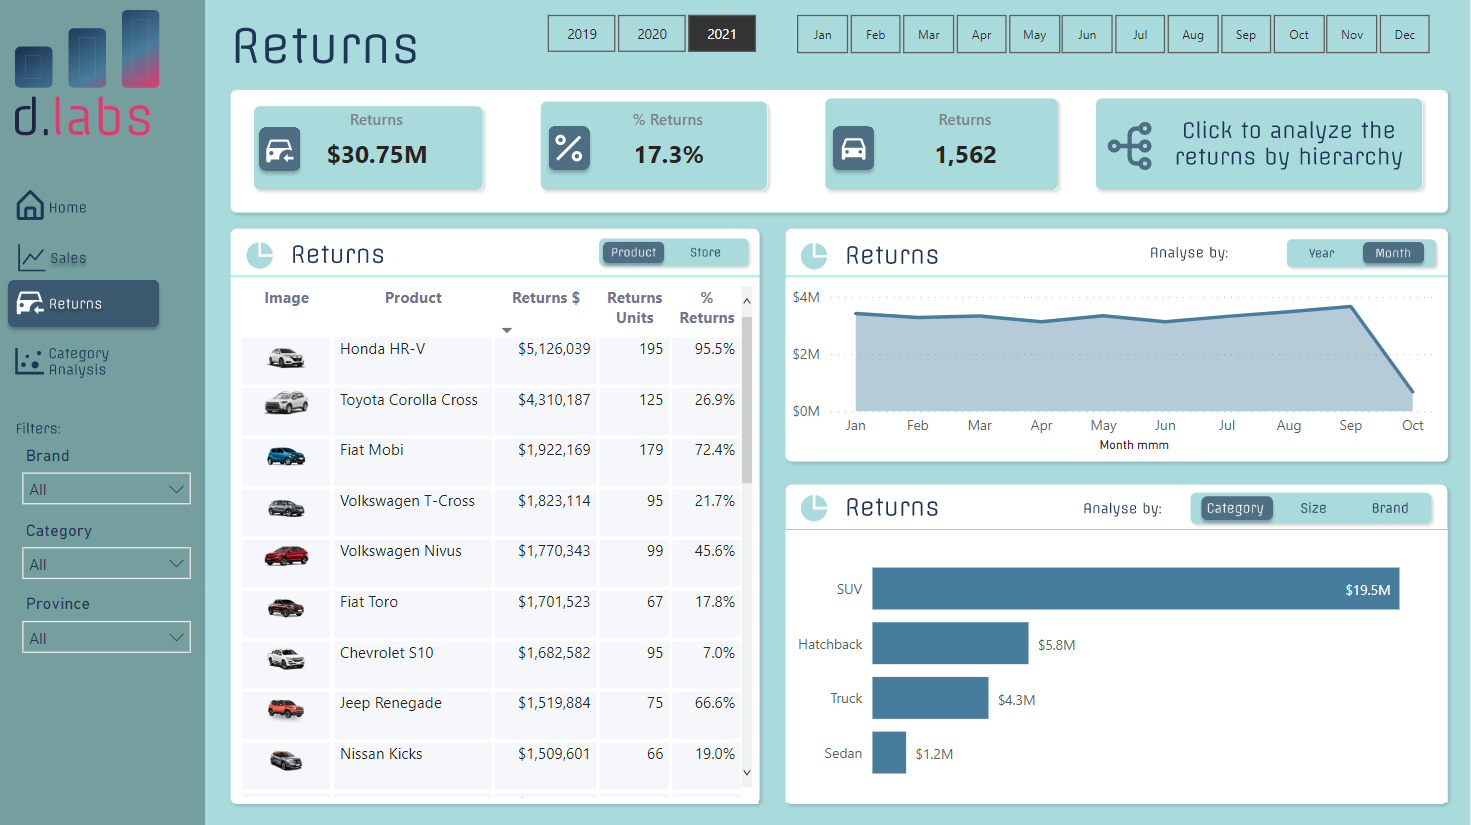

The page's visual inventory and layout, read from the dashboard file:
{"tool":"powerbi","page":{"name":"Returns","canvas":[1280,720],"ordinal":2},"visuals":[{"type":"card","title":"Returns","fields":{"Values":["Measures (2).Returns $"]},"box":[249.5,93.7,156.8,64.2],"z":0},{"type":"card","title":"% Returns","fields":{"Values":["Measures (2).% Returns"]},"box":[503.2,93.7,156.8,64.2],"z":1000},{"type":"card","title":"Returns","fields":{"Values":["Measures (2).Returns Units"]},"box":[761.1,93.7,156.8,64.2],"z":2000},{"type":"slicer","title":"SlicerM","fields":{"Values":["dCalendar.Month mmm"]},"box":[668,6,600,47],"z":3000},{"type":"slicer","title":"SlicerY","fields":{"Values":["dCalendar.Year"]},"box":[451.6,6.3,230.5,46.3],"z":4000},{"type":"actionButton","box":[11.8,158.2,80,40],"z":5000},{"type":"actionButton","box":[11.8,202.7,80,40],"z":6000},{"type":"slicer","fields":{"Values":["dProdutos.Brand"]},"box":[10.4,382,167,62],"z":7000},{"type":"slicer","fields":{"Values":["dProdutos.Category"]},"box":[10.4,447,167,61],"z":8000},{"type":"slicer","fields":{"Values":["dClientes.Province"]},"box":[10.4,511,167,61],"z":9000},{"type":"actionButton","title":"Open Tree","box":[958,86,277,80],"z":10000},{"type":"tableEx","title":"Ret Product Table","fields":{"Values":["dProdutos.ImagemProduto","dProdutos.NomeProduto","Measures (2).Returns $","Measures (2).Returns Units","Measures (2).%Returns"]},"box":[206,243,454,455],"z":11000},{"type":"image","title":"Ret Prod","box":[515.5,195.5,144.5,50],"z":14000},{"type":"actionButton","title":"Bt Product","box":[522.7,207.3,54,22.7],"z":15000},{"type":"actionButton","title":"Bt Store","box":[586,207.3,54,22.7],"z":16000},{"type":"areaChart","title":"Ret by Month","fields":{"Category":["dCalendar.Month mmm"],"Y":["Measures (2).Returns $"]},"box":[683.6,242.7,571.8,155.5],"z":18000},{"type":"image","title":"Ret M","box":[1113.6,196.4,145.5,50],"z":20000},{"type":"actionButton","title":"Bt Year","box":[1123.3,207.3,54,22.7],"z":21000},{"type":"actionButton","title":"Bt Motnh","box":[1186.7,210,54,22.7],"z":22000},{"type":"clusteredBarChart","title":"Ret by Cat","fields":{"Category":["dProdutos.NomeCategoria"],"Y":["Measures (2).Returns $"]},"box":[684,461,575,237],"z":25000},{"type":"image","title":"Cat Retur","box":[1030,420.9,225,44.5],"z":28000},{"type":"actionButton","title":"Bt Cat","box":[1042.5,430,70.8,22.5],"z":29000},{"type":"actionButton","title":"Bt Size","box":[1113.3,430,64.2,22.5],"z":30000},{"type":"actionButton","title":"Bt Brand","box":[1183,429,63,23],"z":31000},{"type":"actionButton","box":[8,294,133,34],"z":34000}]}

Visuals, with their boxes on the page's 1280x720 design canvas (x1, y1, x2, y2). These are canvas units, not pixel positions in the 1471x825 screenshot, which may show the page scaled, cropped or inside an application window:
"Returns" card: 250, 94, 406, 158
"% Returns" card: 503, 94, 660, 158
"Returns" card: 761, 94, 918, 158
"SlicerM" slicer: 668, 6, 1268, 53
"SlicerY" slicer: 452, 6, 682, 53
actionButton: 12, 158, 92, 198
actionButton: 12, 203, 92, 243
slicer - dProdutos.Brand: 10, 382, 177, 444
slicer - dProdutos.Category: 10, 447, 177, 508
slicer - dClientes.Province: 10, 511, 177, 572
"Open Tree" actionButton: 958, 86, 1235, 166
"Ret Product Table" tableEx: 206, 243, 660, 698
"Ret Prod" image: 516, 196, 660, 246
"Bt Product" actionButton: 523, 207, 577, 230
"Bt Store" actionButton: 586, 207, 640, 230
"Ret by Month" areaChart: 684, 243, 1255, 398
"Ret M" image: 1114, 196, 1259, 246
"Bt Year" actionButton: 1123, 207, 1177, 230
"Bt Motnh" actionButton: 1187, 210, 1241, 233
"Ret by Cat" clusteredBarChart: 684, 461, 1259, 698
"Cat Retur" image: 1030, 421, 1255, 465
"Bt Cat" actionButton: 1042, 430, 1113, 452
"Bt Size" actionButton: 1113, 430, 1178, 452
"Bt Brand" actionButton: 1183, 429, 1246, 452
actionButton: 8, 294, 141, 328
